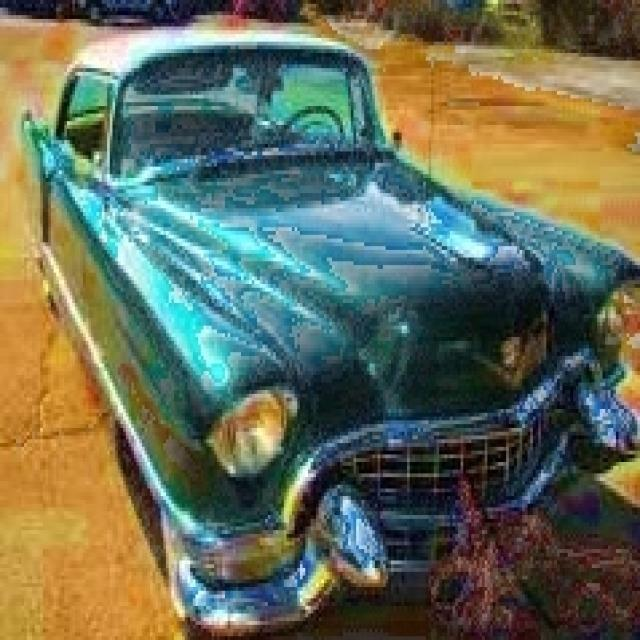green: (22, 22, 638, 628)
